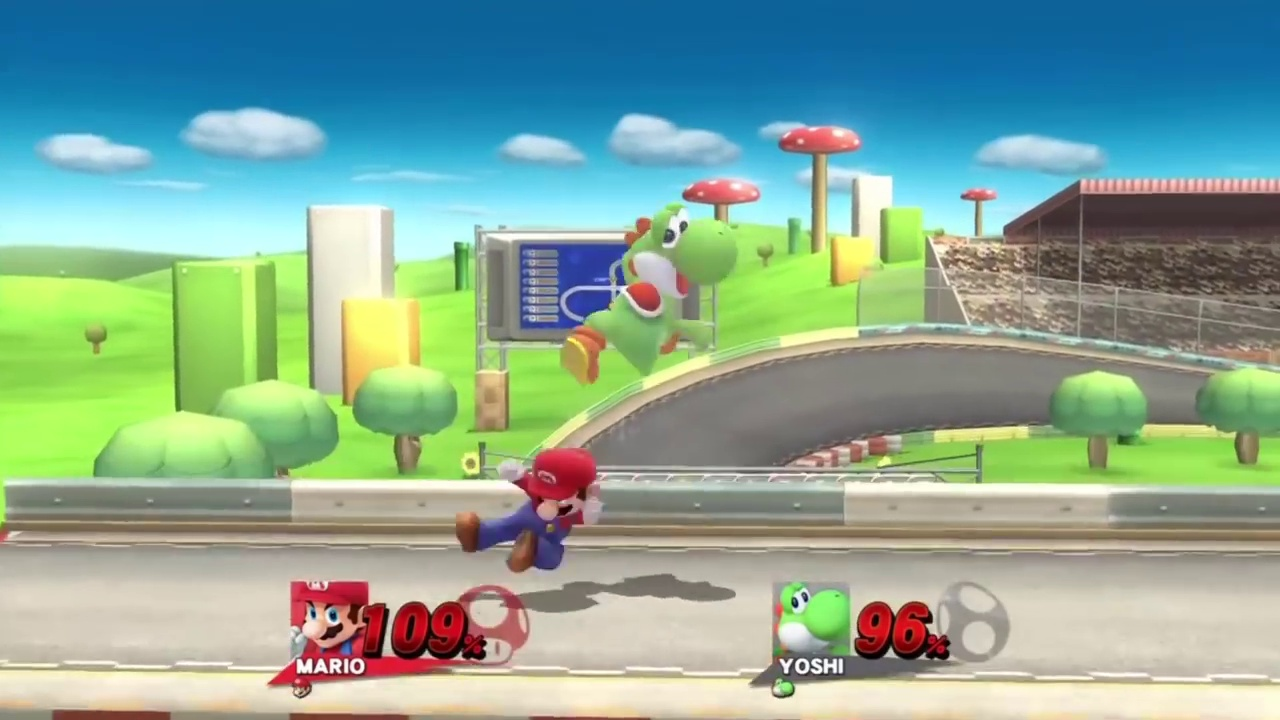Mario: (452, 451, 602, 576)
